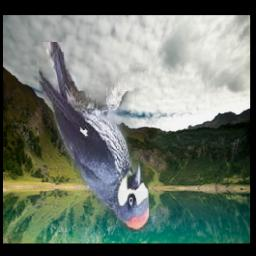Woodpecker: (39, 43, 149, 233)
